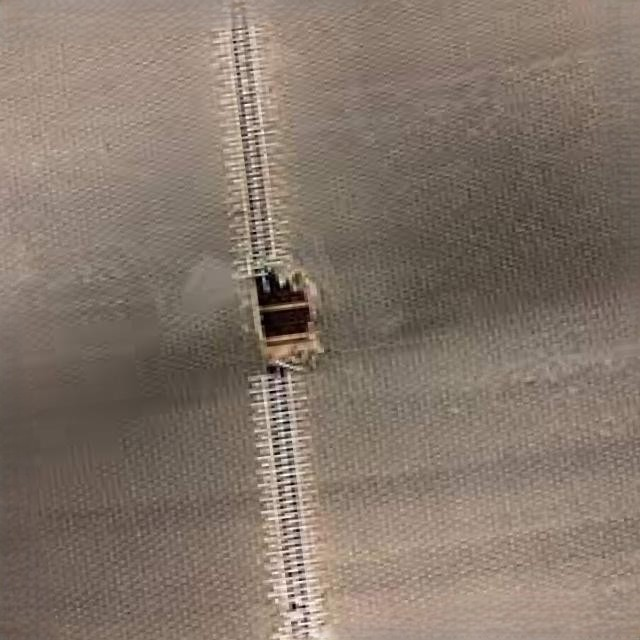Hole: (236, 260, 331, 381)
